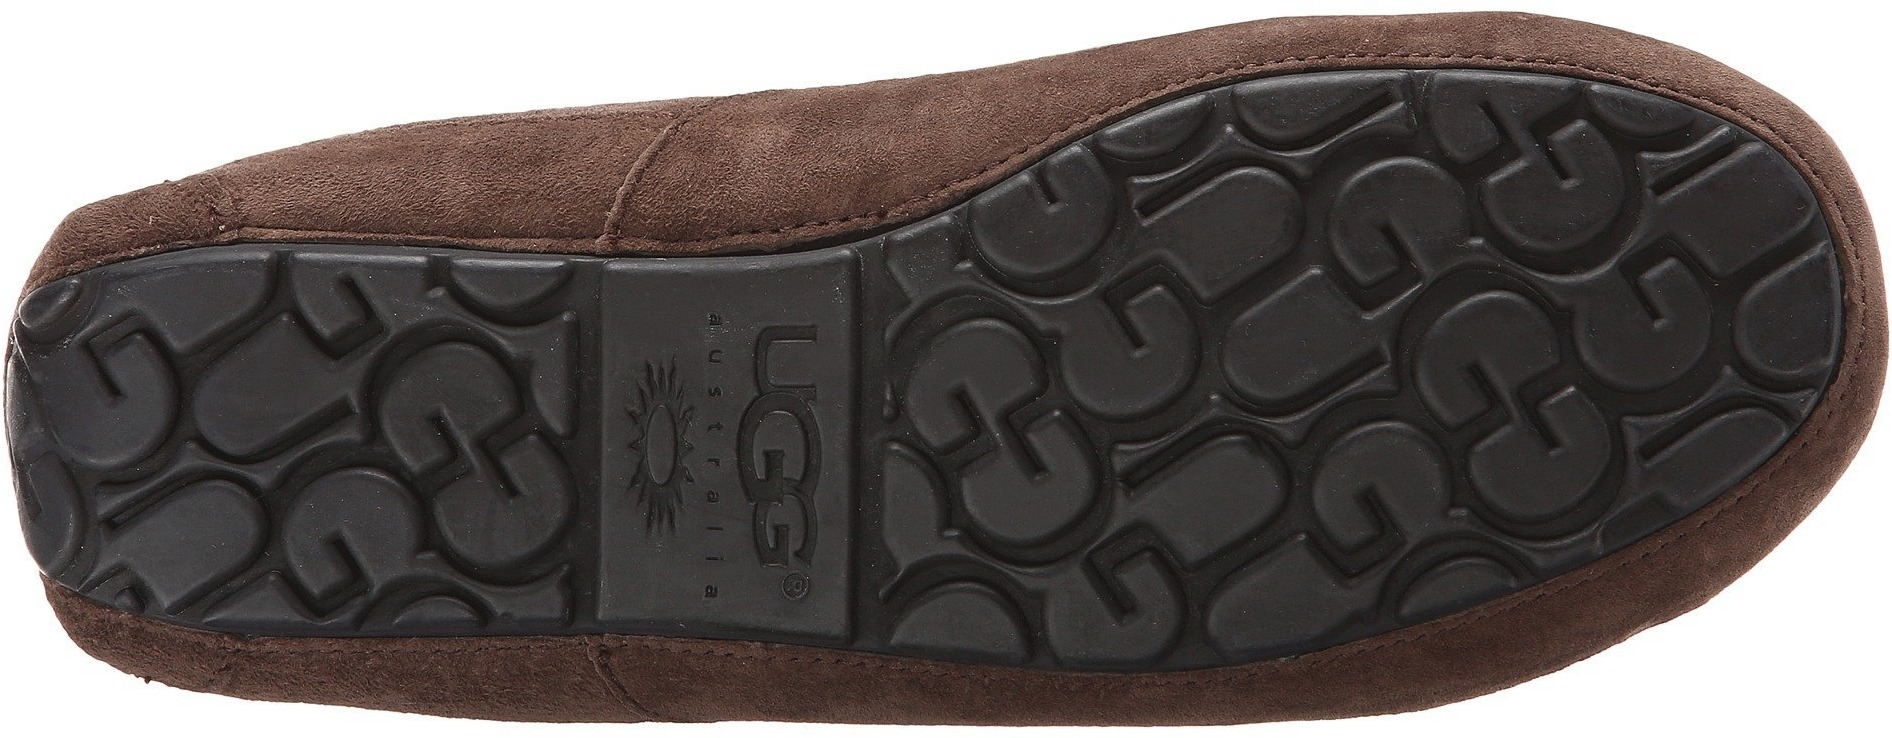circle: (706, 306, 835, 614), (617, 348, 700, 547)
star: (617, 348, 700, 547)
text: (1071, 224, 1503, 598), (84, 316, 500, 632), (1497, 135, 1779, 475), (706, 306, 835, 614), (675, 300, 845, 457), (707, 465, 843, 617)
